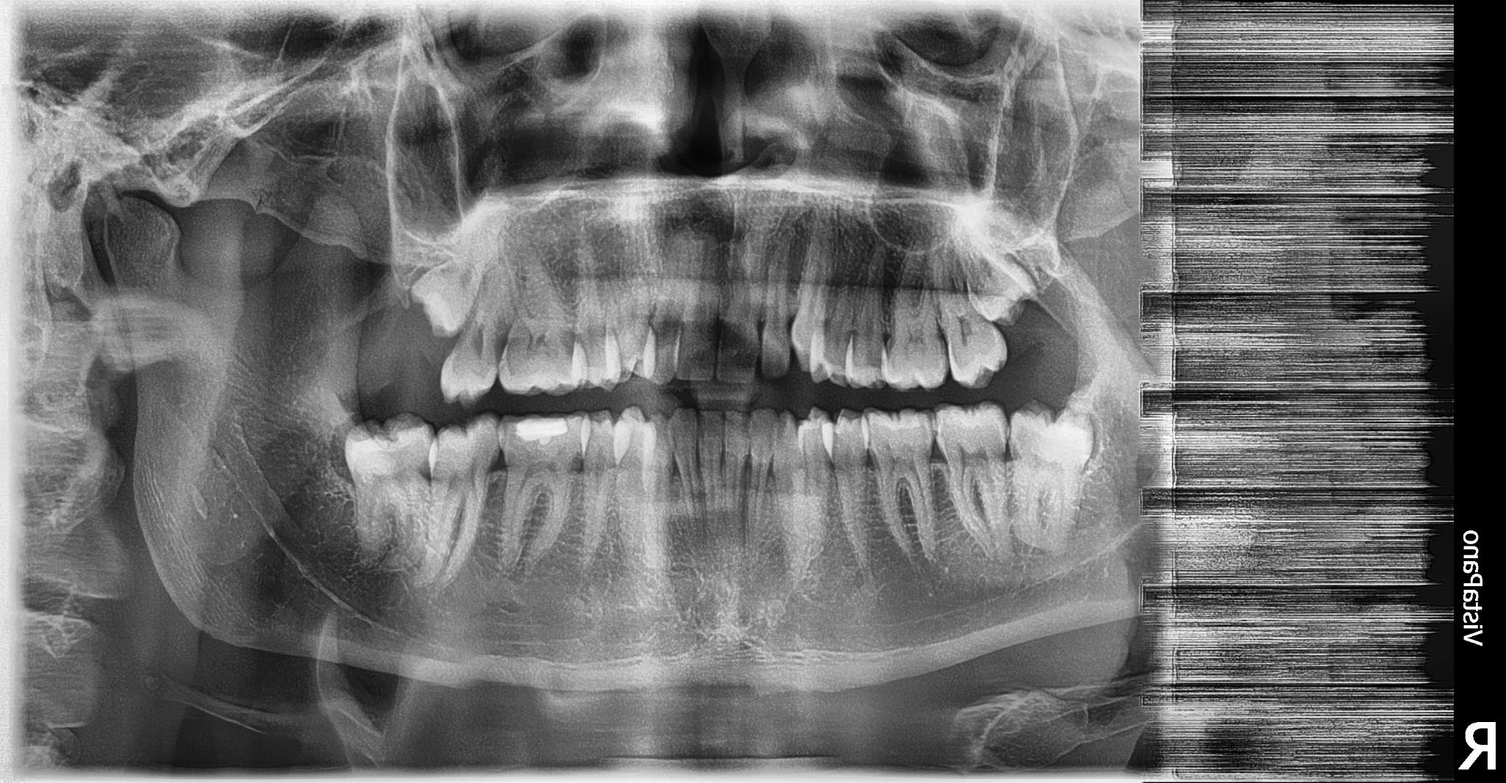Premolars: (568, 205, 1506, 599), (541, 155, 1506, 394), (229, 210, 621, 609), (233, 169, 732, 417)
